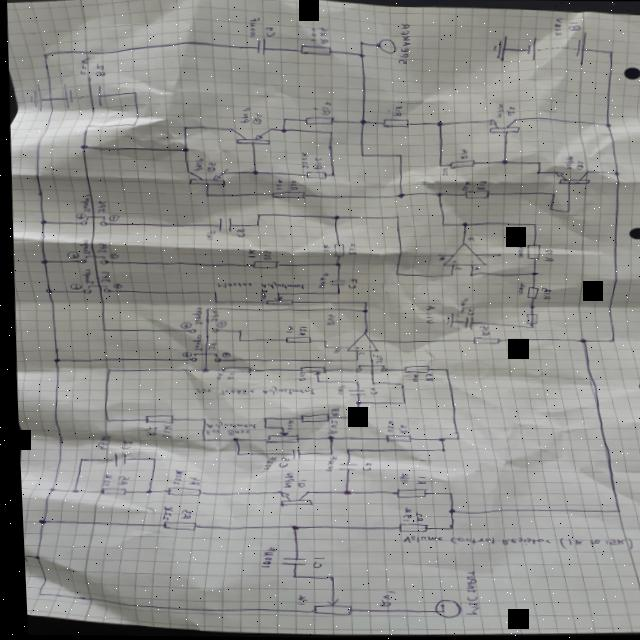capacitor: (253, 38, 265, 57), (276, 557, 300, 566), (215, 218, 230, 232), (108, 452, 121, 466), (460, 317, 471, 331), (343, 389, 361, 397), (285, 448, 297, 460), (331, 464, 351, 471), (326, 279, 342, 287)
crossover: (46, 97, 52, 101)
ground: (490, 36, 507, 64), (27, 83, 42, 111), (438, 312, 451, 329), (19, 541, 24, 566)
junction: (337, 490, 347, 496), (602, 123, 611, 129), (356, 52, 365, 58), (321, 436, 330, 442), (575, 339, 583, 345), (442, 509, 450, 515), (610, 171, 618, 177), (441, 491, 449, 497), (458, 222, 466, 228), (391, 214, 399, 220), (389, 272, 397, 278), (78, 144, 86, 150), (42, 288, 50, 294), (606, 51, 614, 56), (284, 574, 292, 579), (322, 576, 330, 581), (433, 449, 441, 454), (130, 91, 138, 96), (227, 437, 235, 442), (441, 527, 449, 532), (438, 368, 446, 373), (330, 262, 338, 267), (139, 489, 147, 494), (394, 154, 402, 159), (37, 259, 45, 264), (36, 220, 44, 225), (356, 309, 365, 313), (395, 193, 401, 199), (249, 171, 256, 176), (357, 41, 364, 46), (498, 161, 506, 165), (34, 521, 42, 525), (433, 438, 441, 442), (43, 487, 51, 491), (609, 511, 617, 515), (30, 591, 38, 595), (207, 291, 215, 295), (179, 126, 187, 130), (350, 401, 358, 405), (229, 452, 237, 456), (66, 489, 74, 493), (179, 148, 187, 152), (197, 368, 205, 372), (286, 525, 294, 529), (533, 161, 540, 165), (146, 458, 153, 462), (251, 223, 258, 227), (394, 384, 401, 388), (209, 300, 216, 304), (351, 416, 358, 420), (396, 402, 403, 406), (311, 379, 318, 383), (365, 381, 372, 385), (436, 223, 443, 227), (82, 125, 89, 129), (434, 123, 440, 127), (330, 216, 336, 220), (50, 359, 56, 363), (528, 272, 534, 276), (278, 129, 284, 133), (253, 214, 259, 218), (606, 340, 612, 344), (433, 193, 439, 197), (533, 171, 539, 175), (201, 194, 207, 198), (257, 417, 263, 421), (332, 291, 338, 295), (360, 301, 366, 305), (318, 340, 324, 344), (340, 449, 346, 453), (450, 437, 456, 441), (233, 329, 239, 333), (529, 223, 535, 227), (349, 359, 355, 363), (327, 173, 333, 177), (40, 53, 46, 57), (97, 328, 103, 332), (29, 555, 35, 559), (545, 209, 552, 212), (358, 154, 363, 158), (102, 368, 107, 372), (563, 210, 568, 214), (201, 307, 206, 311), (326, 131, 331, 135), (358, 121, 363, 125), (129, 123, 134, 127), (525, 305, 529, 310), (547, 194, 553, 197), (322, 453, 328, 456), (232, 339, 238, 342), (280, 118, 284, 122), (446, 274, 450, 278), (196, 417, 200, 421), (435, 164, 439, 168), (350, 381, 355, 384), (272, 292, 277, 295), (75, 460, 81, 462), (196, 438, 200, 441), (466, 274, 469, 277), (101, 419, 105, 421), (528, 327, 531, 329)
resistor: (306, 600, 347, 617), (260, 431, 295, 446), (297, 45, 331, 58), (293, 412, 326, 425), (390, 487, 422, 499), (161, 486, 195, 497), (390, 523, 423, 534), (302, 116, 334, 127), (138, 414, 169, 425), (261, 296, 292, 307), (157, 521, 191, 531), (268, 191, 304, 200), (380, 118, 409, 129), (295, 366, 323, 376), (217, 365, 247, 374), (461, 190, 487, 200), (447, 160, 473, 170), (280, 336, 309, 344), (379, 435, 408, 443), (397, 366, 426, 374), (248, 261, 276, 269), (523, 245, 537, 261), (95, 487, 122, 495), (303, 172, 325, 180), (468, 338, 496, 344), (523, 288, 536, 300), (330, 245, 341, 257)
source: (523, 31, 587, 66), (60, 76, 102, 114)
switch: (348, 364, 384, 374), (185, 351, 217, 362), (77, 215, 103, 227), (75, 256, 106, 265), (78, 285, 108, 294), (184, 327, 216, 334)
terminal: (433, 254, 439, 257), (494, 255, 498, 257)
text: (395, 534, 630, 552), (192, 384, 314, 397), (213, 280, 301, 290), (457, 572, 474, 615), (395, 23, 411, 65), (200, 421, 253, 430), (254, 546, 271, 569), (244, 17, 259, 39), (201, 429, 246, 436), (90, 434, 107, 451), (373, 592, 390, 608), (420, 304, 433, 324), (76, 58, 90, 76), (552, 18, 564, 37), (77, 194, 89, 213), (166, 469, 180, 485), (77, 269, 91, 285), (319, 457, 333, 473), (277, 471, 290, 488), (257, 457, 272, 471), (296, 152, 309, 168), (316, 28, 329, 44), (501, 229, 514, 245), (313, 273, 326, 289), (238, 108, 250, 124), (187, 335, 199, 351), (395, 506, 407, 522), (306, 27, 318, 43), (155, 506, 168, 520), (155, 424, 168, 438), (342, 243, 355, 257), (323, 419, 334, 435), (76, 239, 87, 255), (95, 270, 108, 283), (318, 102, 330, 116), (93, 200, 105, 214), (565, 22, 580, 33), (189, 308, 199, 324), (310, 157, 322, 170), (190, 157, 202, 170), (96, 473, 108, 486), (539, 250, 551, 263), (279, 420, 290, 434), (493, 103, 503, 118), (140, 425, 153, 436), (381, 419, 391, 433), (288, 594, 302, 604), (111, 475, 125, 485), (114, 439, 128, 449), (273, 457, 285, 468), (203, 339, 214, 351), (537, 288, 548, 300), (390, 105, 401, 117), (343, 279, 355, 290), (285, 181, 298, 191), (562, 157, 572, 170), (182, 476, 195, 486), (456, 298, 464, 314), (513, 245, 522, 259), (330, 385, 341, 396), (393, 473, 404, 484), (407, 512, 418, 523), (257, 250, 268, 261), (322, 314, 332, 326), (263, 27, 275, 37), (201, 230, 213, 240), (94, 63, 104, 75), (255, 289, 265, 301), (473, 181, 485, 191), (243, 248, 255, 258), (272, 179, 282, 191), (368, 355, 381, 364), (62, 251, 76, 259), (293, 327, 304, 337), (356, 462, 367, 472), (456, 150, 467, 160), (458, 182, 469, 192), (251, 115, 261, 126), (232, 229, 244, 238), (104, 214, 117, 222), (66, 282, 79, 290), (504, 107, 514, 117), (475, 326, 485, 336), (94, 243, 104, 253), (308, 558, 318, 568), (176, 510, 186, 520), (280, 325, 292, 333), (409, 477, 421, 485), (176, 321, 188, 329), (176, 351, 189, 358), (513, 285, 522, 295), (291, 479, 301, 488), (206, 311, 214, 322), (293, 373, 302, 382), (325, 408, 335, 416), (419, 374, 429, 382), (573, 161, 581, 171), (220, 372, 230, 380), (393, 425, 403, 433), (71, 213, 84, 219), (211, 373, 220, 381), (104, 253, 116, 259), (364, 388, 374, 395), (407, 375, 415, 383), (110, 283, 120, 289), (213, 321, 223, 327), (319, 245, 327, 252), (462, 310, 471, 316), (439, 168, 445, 176), (219, 352, 227, 358), (328, 348, 336, 353), (463, 238, 472, 242), (448, 259, 454, 265), (451, 267, 459, 271), (354, 352, 362, 356), (471, 267, 478, 271), (435, 258, 441, 262), (362, 345, 368, 349), (350, 346, 356, 350), (466, 260, 470, 264)
transistor: (226, 127, 271, 146), (272, 489, 308, 509), (185, 171, 227, 188), (551, 170, 588, 187), (484, 119, 519, 136)
